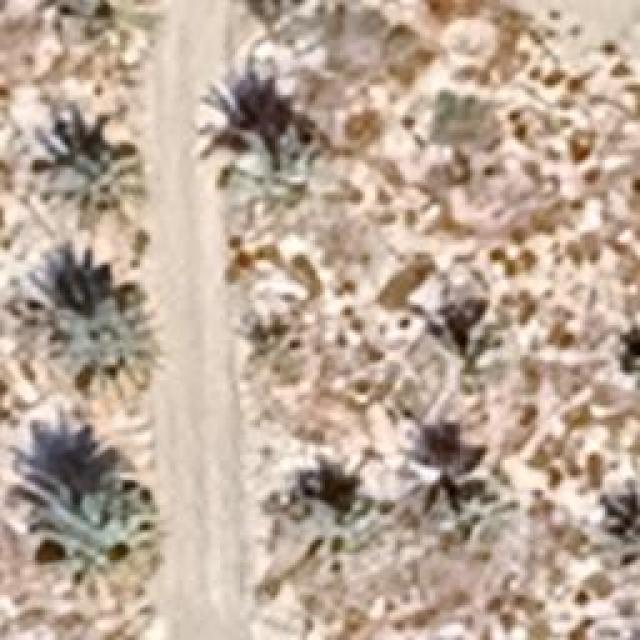PalmTree: (20, 43, 630, 349), (41, 468, 159, 582), (44, 119, 144, 239), (42, 295, 156, 390), (222, 118, 326, 206), (420, 304, 522, 388), (270, 474, 362, 564), (430, 490, 525, 552), (34, 0, 164, 45), (600, 480, 638, 550)
